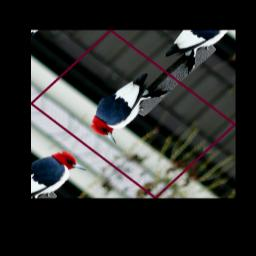Woodpecker: (77, 64, 174, 148)
